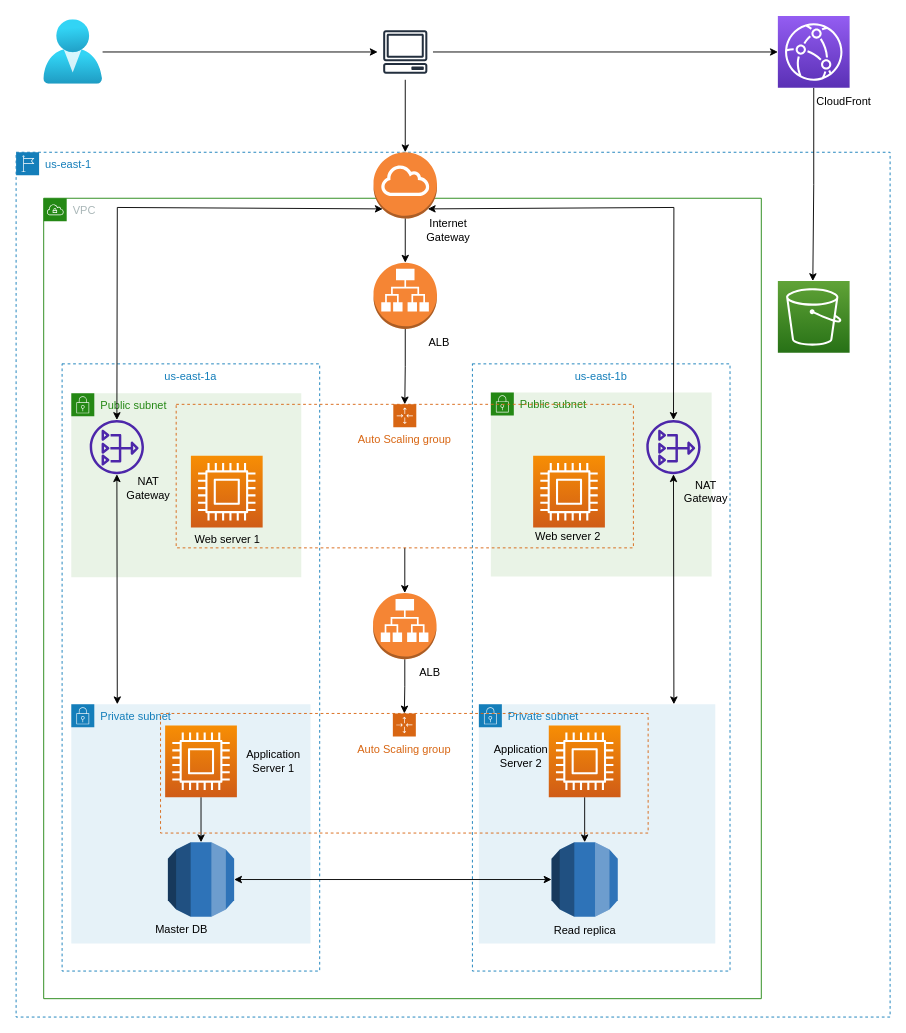
This 906x1033 diagram has some shape labels left out. The shapes that lost their labels are listed below. From the top down, each one's box as (x1, y1, x2, y2) in pixels, then its label:
(377, 23, 433, 80): Client
(777, 280, 850, 353): Amazon S3
